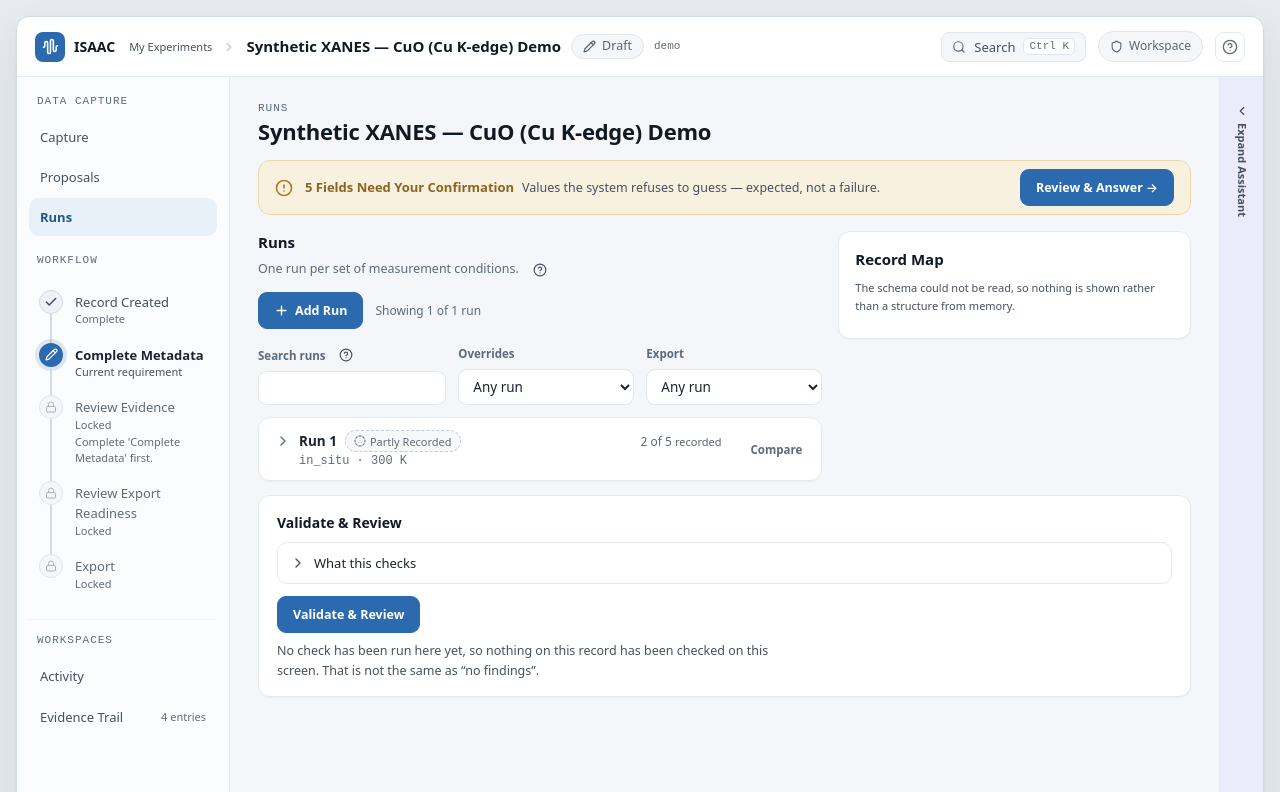
it: the run body is sections, not one dump › collapsing a section takes its controls out of the accessibility tree
Expected: the button "Add Run" is shown, [258, 292, 363, 330]
Click the button "Run 1 Partly Recorded 2 of 5 recorded in_situ · 300 K".
click(291, 458)  # box [259, 418, 738, 480]
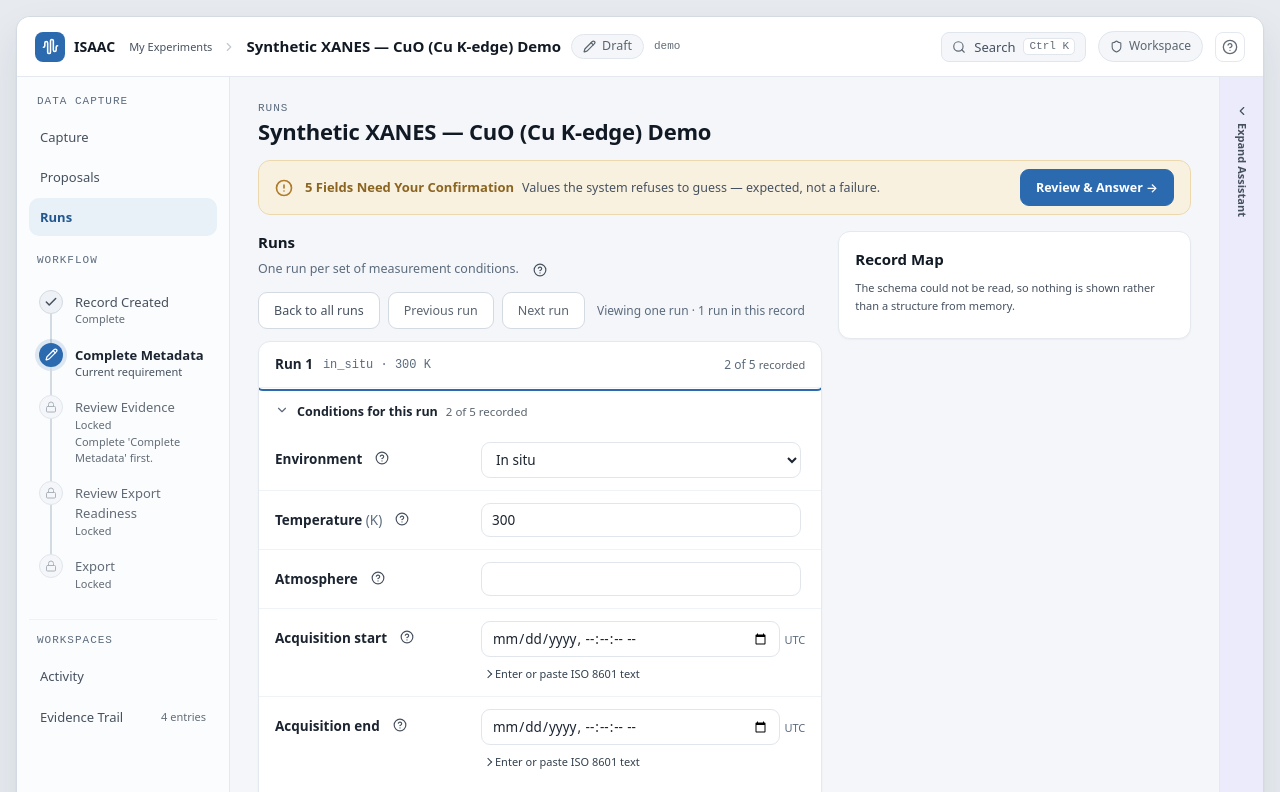
Expected: the dropdown labelled "Environment" is shown, [481, 442, 801, 478]
Click the button with class "run-section-header".
click(367, 412)  # box [259, 392, 821, 430]
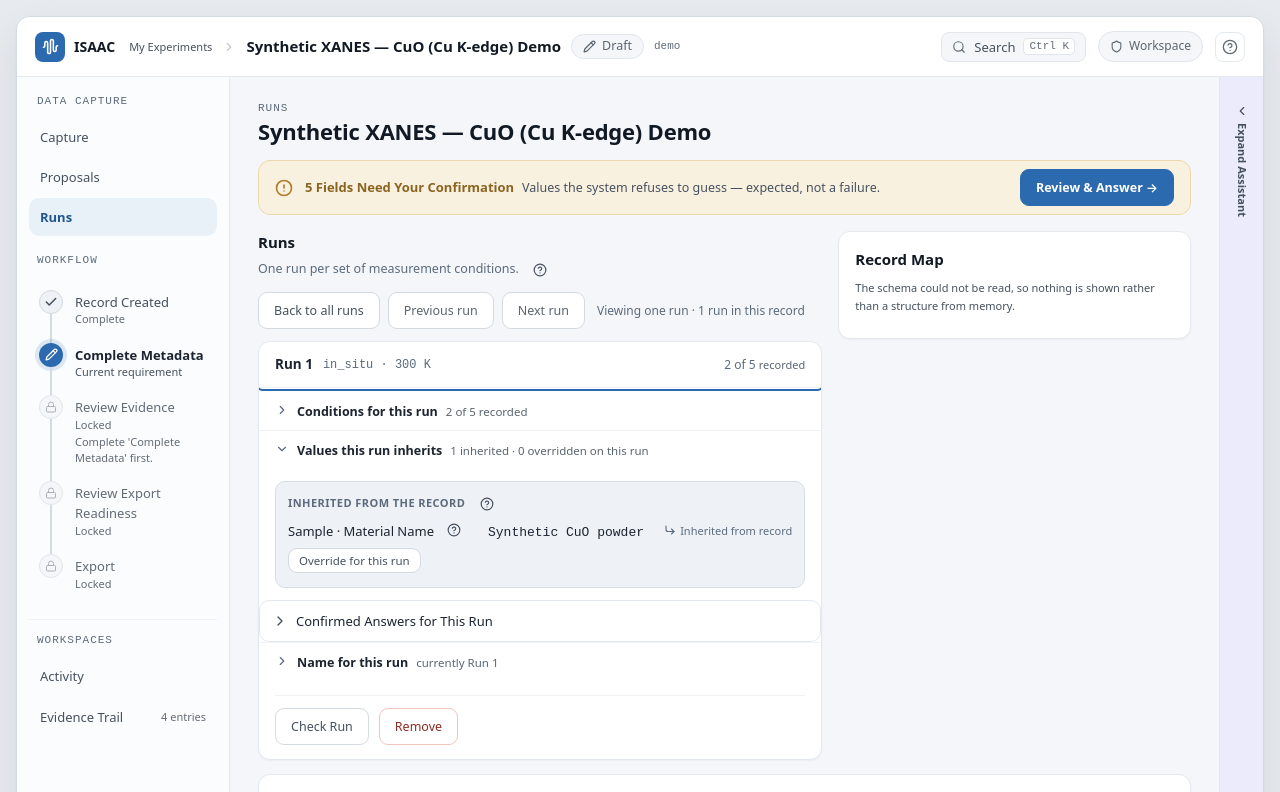
Expected: the button with class "run-section-header" is collapsed
Expected: the label "Environment" is gone
Click the button with class "run-section-header" that starts with "Conditions for this run".
click(367, 412)  # box [259, 392, 821, 430]
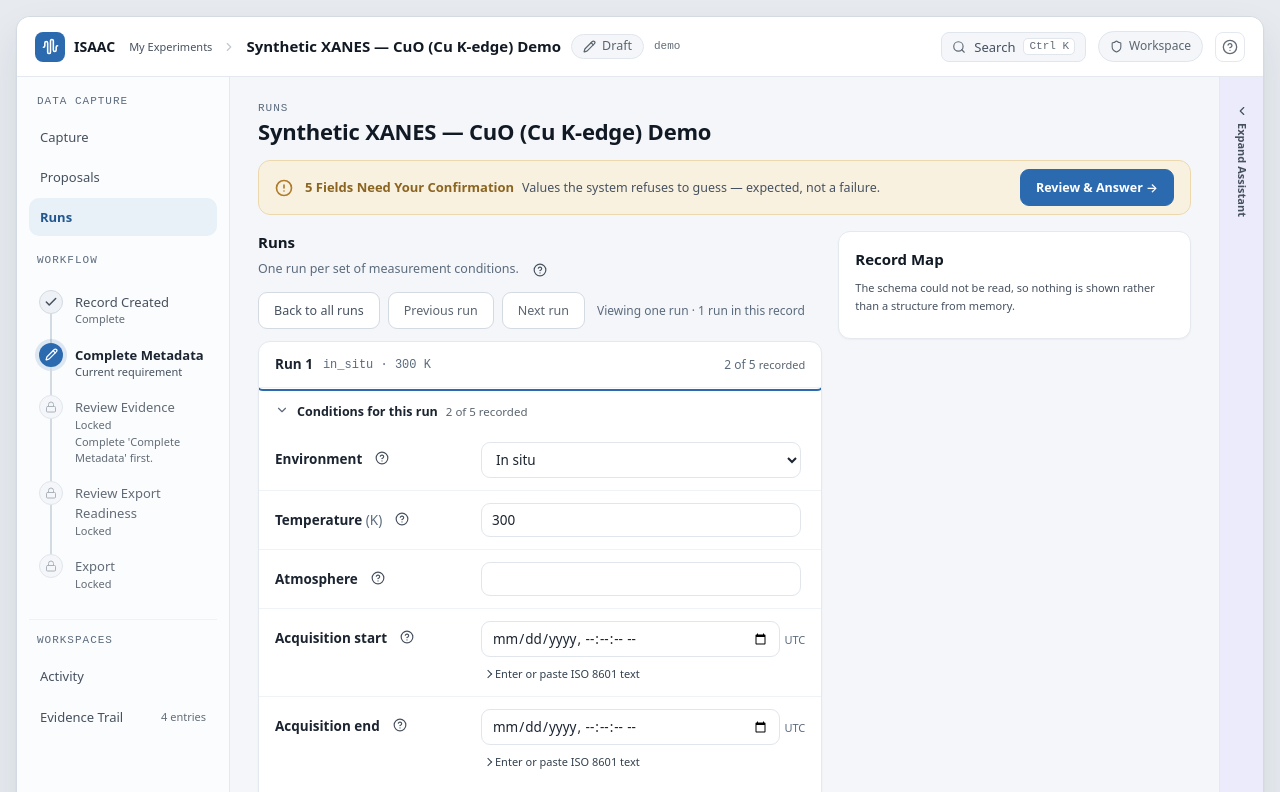
Expected: the button with class "run-section-header" is expanded, [259, 392, 821, 430]
Expected: the dropdown labelled "Environment" is shown, [481, 442, 801, 478]
